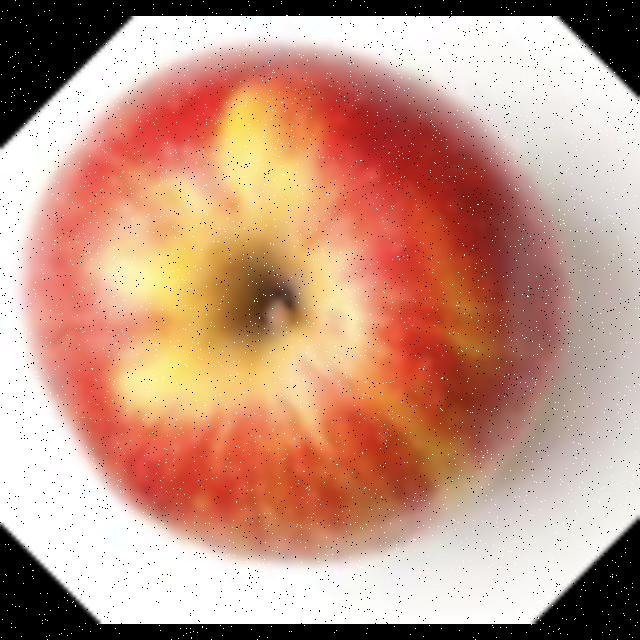Apel Segar: (0, 20, 596, 588)
